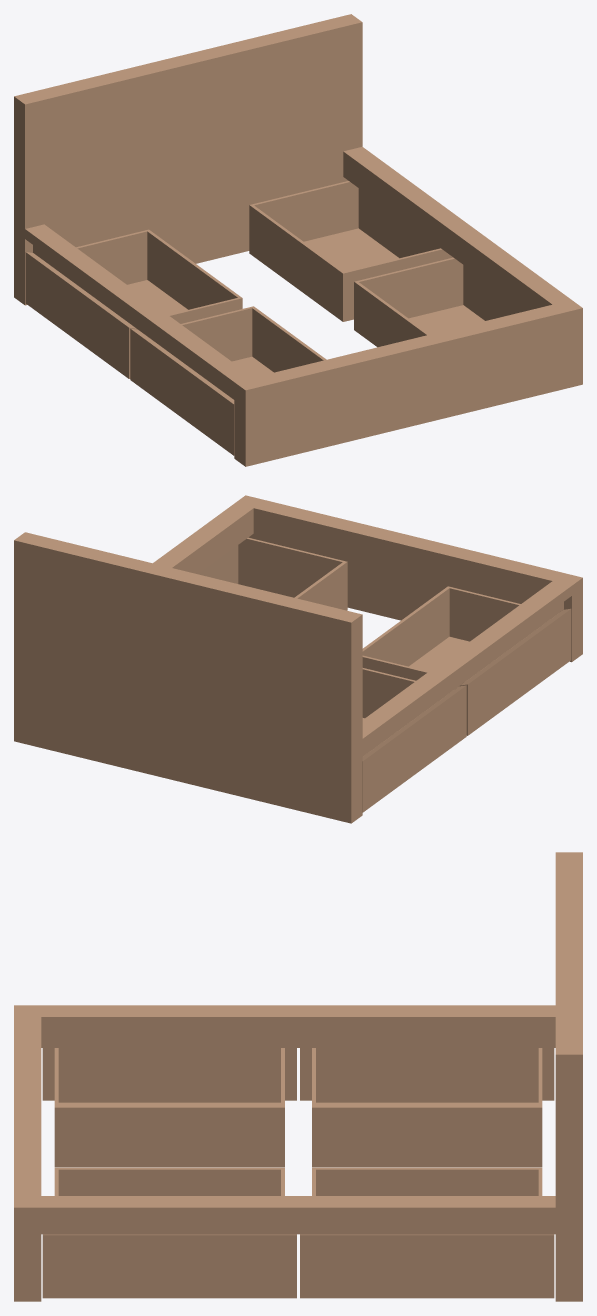
File: Bed_02.fbx
The picture shows the model from 3 angles, top to bottom: view 1: azimuth 30°, elevation 25°; view 2: azimuth 150°, elevation 25°; view 3: azimuth 270°, elevation 25°; orthographic projection. The views are drawn at different scales.
Visible parts, largest first — view 1: Bed, Drawer_Right_2, Drawer_Left_2, Drawer_Left_1, Drawer_Right_1; view 2: Bed, Drawer_Left_1, Drawer_Left_2, Drawer_Right_1; view 3: Bed, Drawer_Left_2, Drawer_Left_1, Drawer_Right_1, Drawer_Right_2.
Part boxes in pixels (left/top/right/bottom): Bed: left=14, top=14, right=582, bottom=466; Drawer_Right_2: left=249, top=181, right=452, bottom=321; Drawer_Left_2: left=25, top=229, right=242, bottom=378; Drawer_Left_1: left=130, top=306, right=326, bottom=455; Drawer_Right_1: left=354, top=257, right=525, bottom=347; Bed: left=14, top=495, right=582, bottom=823; Drawer_Left_1: left=362, top=586, right=571, bottom=735; Drawer_Left_2: left=362, top=668, right=466, bottom=812; Drawer_Right_1: left=198, top=537, right=347, bottom=610; Bed: left=14, top=852, right=582, bottom=1301; Drawer_Left_2: left=300, top=1048, right=554, bottom=1167; Drawer_Left_1: left=42, top=1048, right=296, bottom=1167; Drawer_Right_1: left=42, top=1167, right=296, bottom=1298; Drawer_Right_2: left=300, top=1167, right=554, bottom=1298.
Size of the model in its own units: 1.76 by 0.9996 by 2.09.
